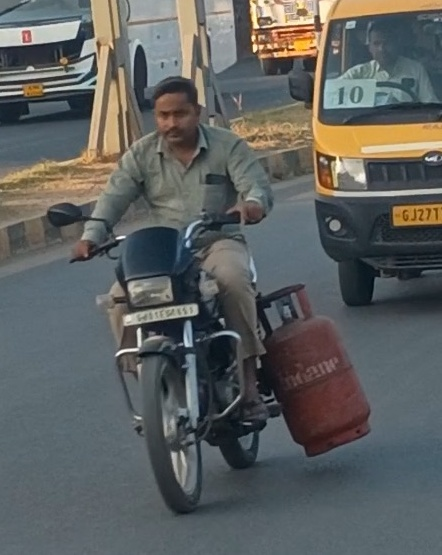BikeWithRider: (41, 72, 383, 520)
NoHelmet: (139, 67, 226, 150)
